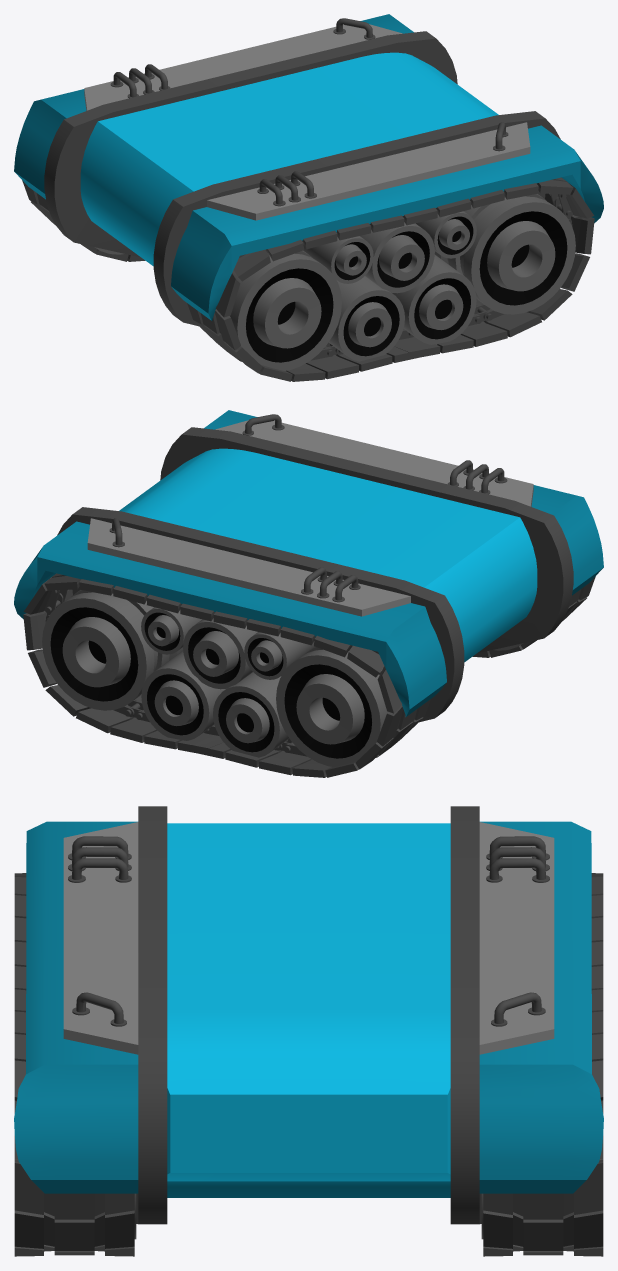
Rendered from newTankBase.fbx.
The picture shows the model from 3 angles, top to bottom: view 1: azimuth 30°, elevation 25°; view 2: azimuth 150°, elevation 25°; view 3: azimuth 270°, elevation 25°; orthographic projection. The views are drawn at different scales.
Visible parts, largest first — view 1: Cube.006; view 2: Cube.006; view 3: Cube.006.
Boxes of the visible parts, box(x1,y1,x2,y2) form: Cube.006: box(14, 14, 603, 381); Cube.006: box(14, 410, 603, 777); Cube.006: box(14, 806, 603, 1256).
Bounding box in the file's own units: 1110 × 485 × 984.
